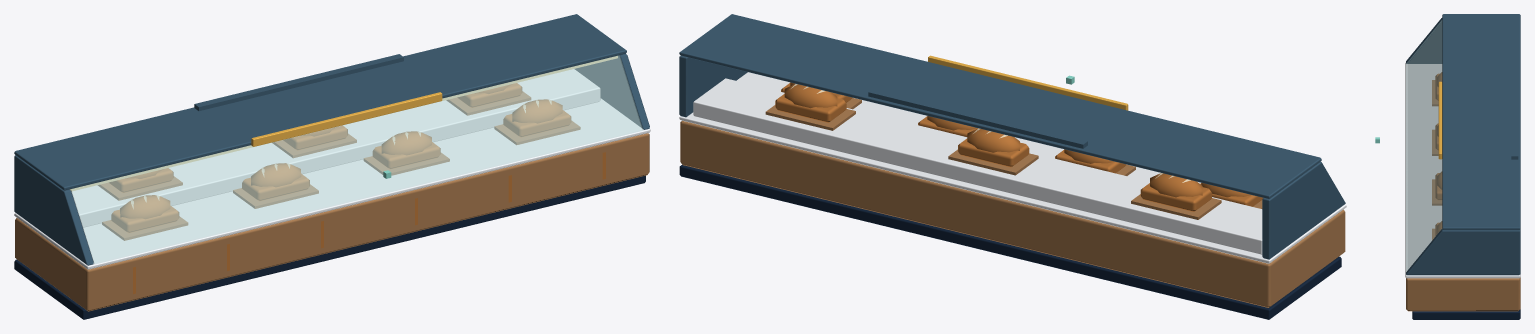
File: CM_Fixture_BakeryCase.fbx
3 renders of one model, left to right at view 1: azimuth 30°, elevation 25°; view 2: azimuth 150°, elevation 25°; view 3: azimuth 270°, elevation 25°, orthographic. The views are drawn at different scales.
Visible parts, largest first — view 1: Body, Glass, Item1, Item4, Item2, Item3, PriceTag, Item7, Item6, Item5; view 2: Body, Item7, Item6, Item5, PriceTag, Item2, Item1, Item3; view 3: Body, Glass, PriceTag, Item3, Item1, Item2.
Part boxes in pixels (bbox=[...]): Body: bbox=[14, 14, 650, 319]; Glass: bbox=[71, 55, 642, 264]; Item1: bbox=[102, 195, 188, 240]; Item4: bbox=[494, 99, 580, 144]; Item2: bbox=[233, 163, 318, 208]; Item3: bbox=[363, 131, 449, 175]; PriceTag: bbox=[251, 92, 442, 146]; Item7: bbox=[446, 83, 531, 115]; Item6: bbox=[272, 125, 356, 158]; Item5: bbox=[98, 168, 182, 200]; Body: bbox=[679, 14, 1346, 319]; Item7: bbox=[765, 84, 855, 130]; Item6: bbox=[948, 128, 1038, 175]; Item5: bbox=[1131, 173, 1221, 219]; PriceTag: bbox=[928, 55, 1128, 110]; Item2: bbox=[1055, 149, 1135, 175]; Item1: bbox=[1200, 182, 1263, 208]; Item3: bbox=[918, 116, 977, 136]; Body: bbox=[1405, 14, 1520, 319]; Glass: bbox=[1406, 20, 1442, 271]; PriceTag: bbox=[1438, 81, 1442, 159]; Item3: bbox=[1432, 171, 1442, 205]; Item1: bbox=[1432, 72, 1442, 106]; Item2: bbox=[1432, 123, 1438, 155].
Bounding box in the file's own units: 22 × 6.3 × 4.6.
2 materials, 2 textured.
